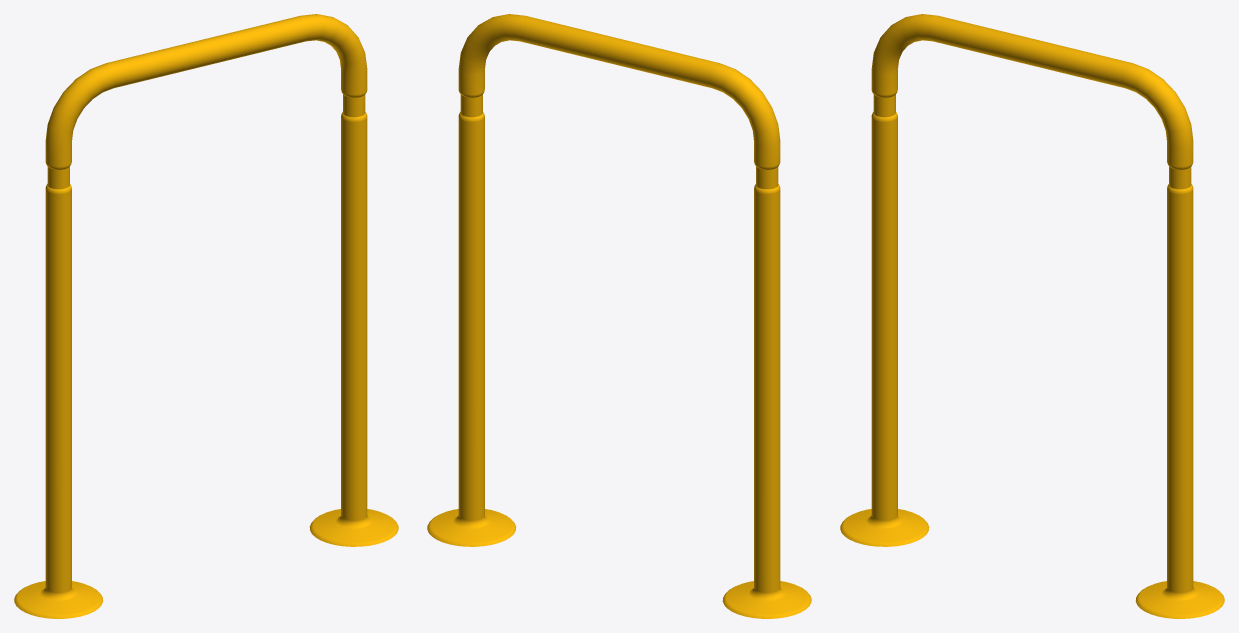
The model's file is Pipe_a.fbx.
The picture shows the model from 3 angles, left to right: view 1: azimuth 30°, elevation 25°; view 2: azimuth 150°, elevation 25°; view 3: azimuth 330°, elevation 25°; orthographic projection.
Visible parts, largest first — view 1: Pipe_a; view 2: Pipe_a; view 3: Pipe_a.
Part boxes in pixels (bbox=[...]): Pipe_a: bbox=[14, 14, 398, 618]; Pipe_a: bbox=[427, 14, 811, 618]; Pipe_a: bbox=[840, 14, 1224, 618].
Size of the model in its own units: 273 by 367 by 56.66.
